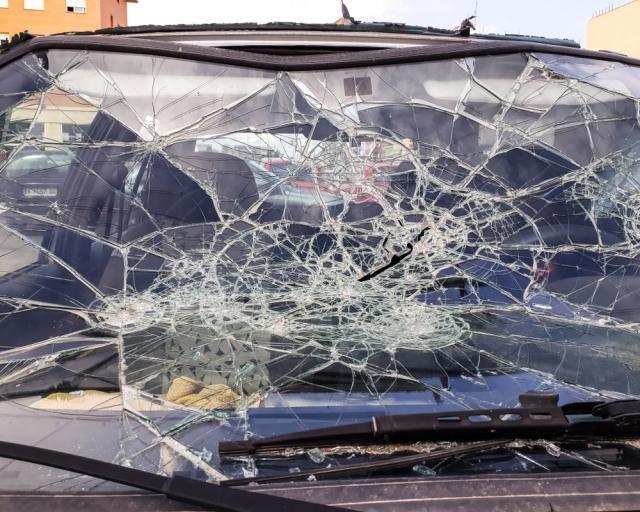glass shatter: (0, 49, 640, 491)
